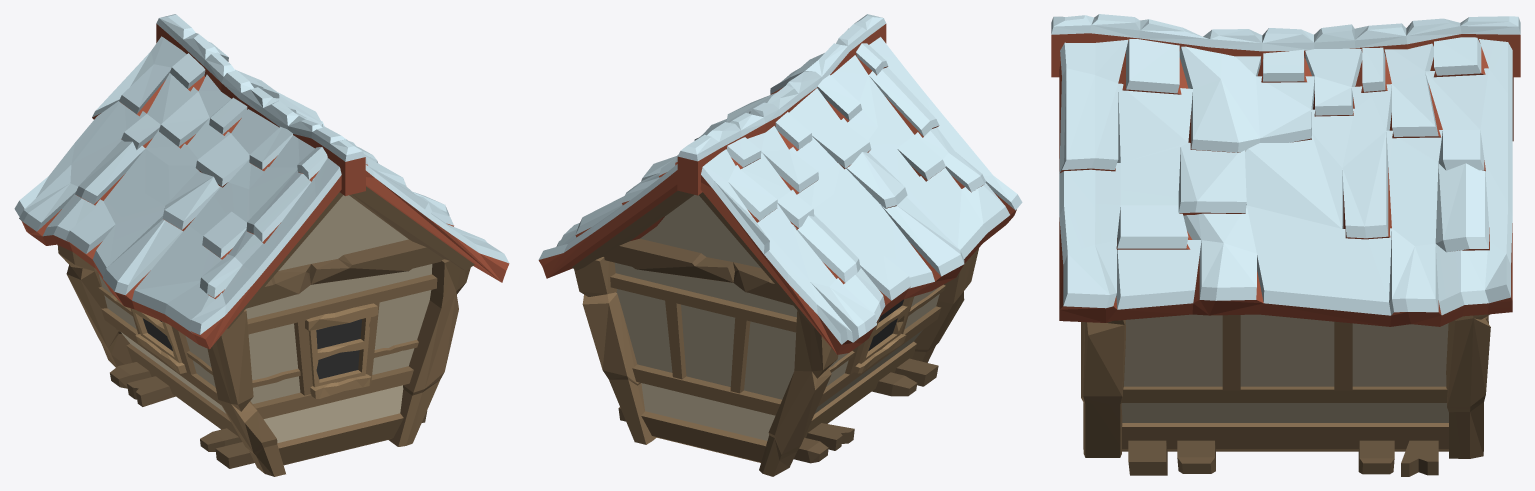
Rendered from SM_Bld_House_TopRoomSmall_03_Snow.gltf.
3 renders of one model, left to right at view 1: azimuth 30°, elevation 25°; view 2: azimuth 150°, elevation 25°; view 3: azimuth 270°, elevation 25°, orthographic. The views are drawn at different scales.
Visible parts, largest first — view 1: SM_Bld_House_TopRoomSmall_03_Snow; view 2: SM_Bld_House_TopRoomSmall_03_Snow; view 3: SM_Bld_House_TopRoomSmall_03_Snow.
Part boxes in pixels (bbox=[...]): SM_Bld_House_TopRoomSmall_03_Snow: bbox=[14, 14, 509, 476]; SM_Bld_House_TopRoomSmall_03_Snow: bbox=[538, 14, 1022, 476]; SM_Bld_House_TopRoomSmall_03_Snow: bbox=[1051, 14, 1520, 476].
Size of the model in its own units: 4.68 by 4.37 by 4.67.
Materials: 1 (1 with a texture image).
